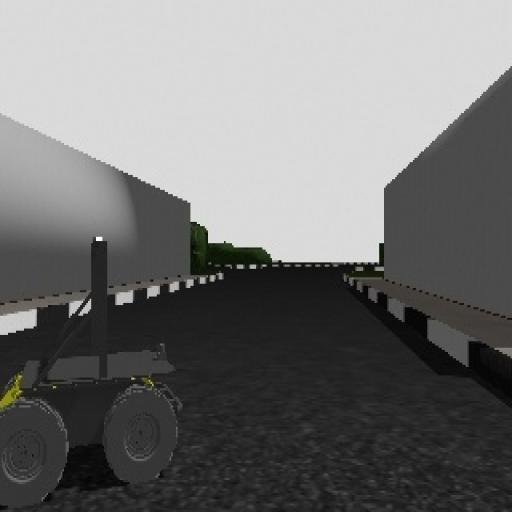huskya200: (1, 214, 185, 512)
